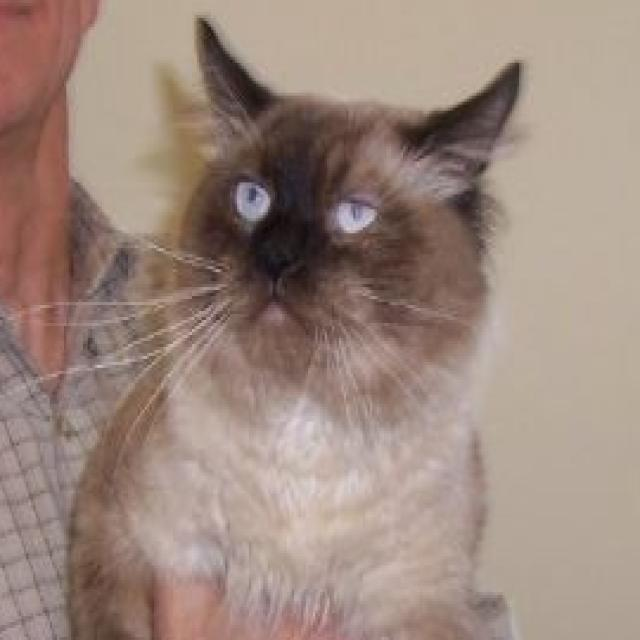Birman: (59, 6, 534, 640)
